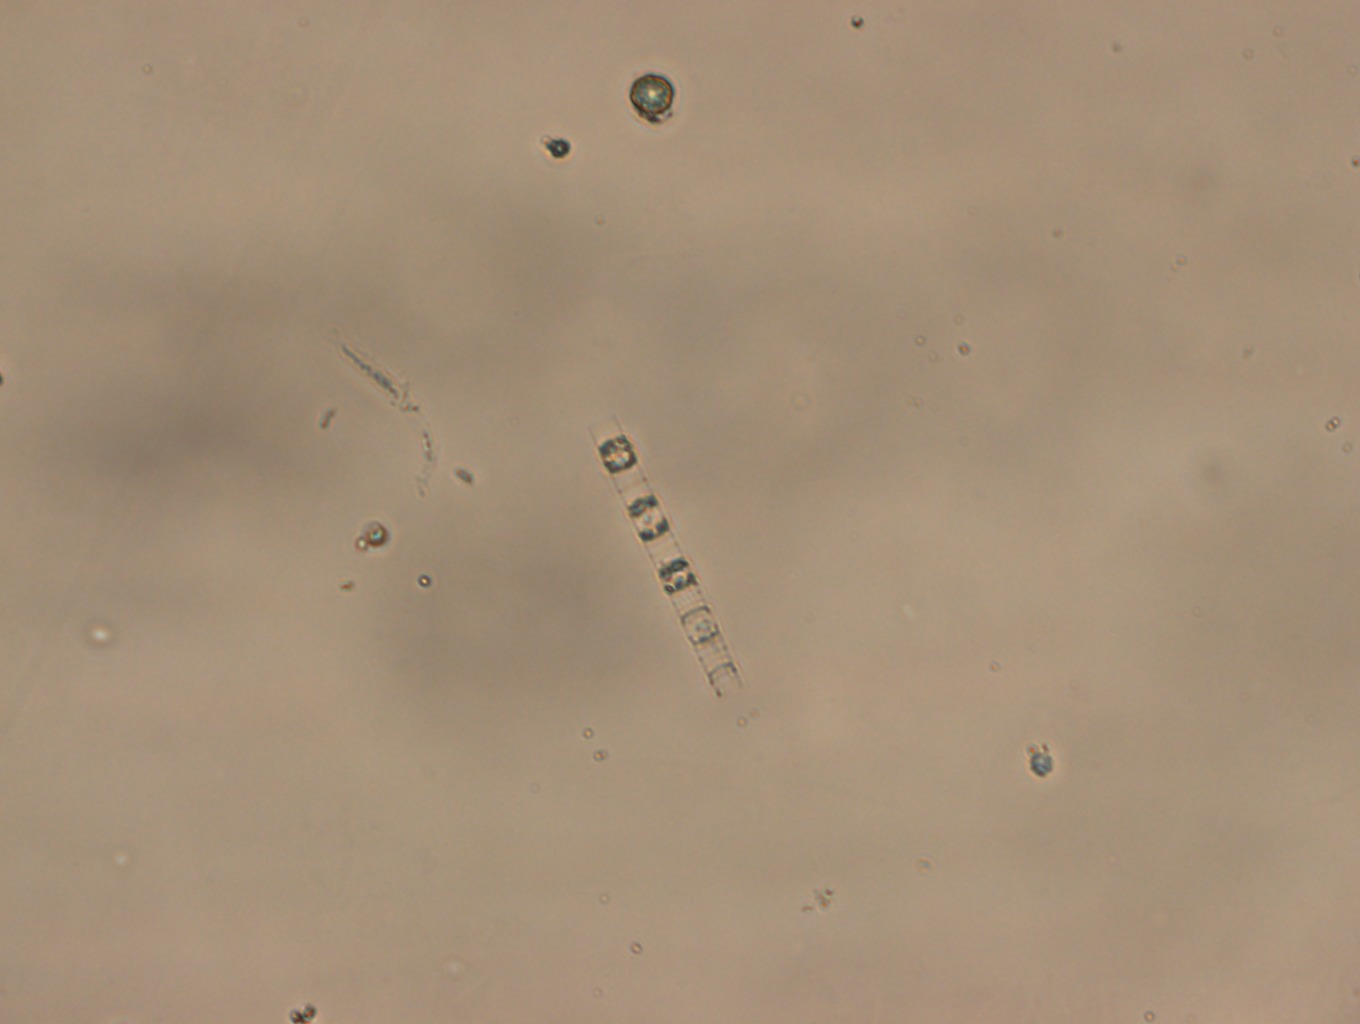skeletonema: (583, 410, 746, 710)
